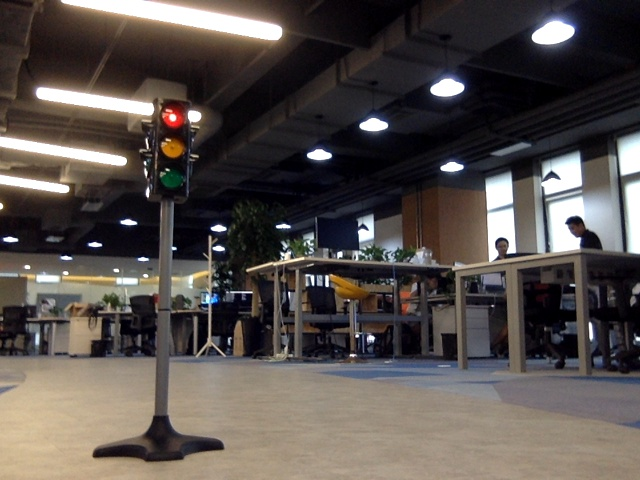red: (153, 106, 186, 194)
